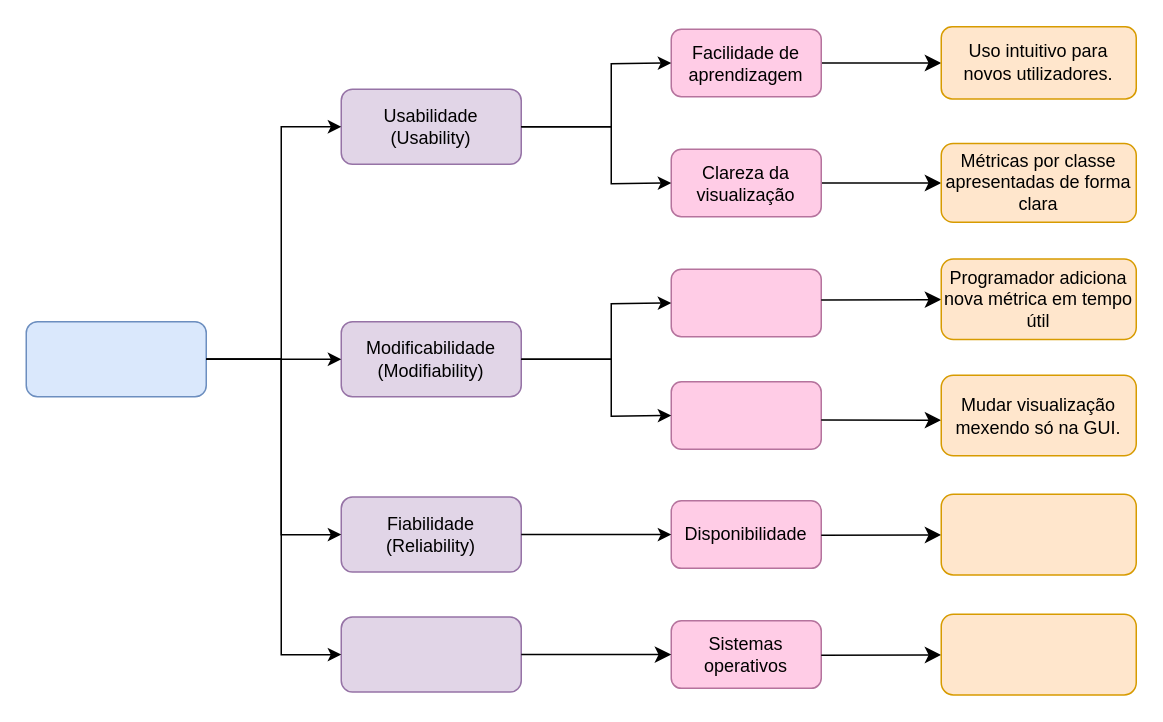
Some shapes in this 1163 by 722 pixel diagram are drawn without their labels. Here are the shapes that lost their labels. From the top down, the centre of each, then its label:
At point 745,302: "Adicionar novas métricas".
At point 115,358: "Utility".
At point 745,414: "Alterar forma de apresentação".
At point 1038,534: "Aplicação não termina inesperadamente.".
At point 430,654: "Portabilidade (Portability)".
At point 1038,654: "Correr em Windows e macOS sem alterações ao código.".
